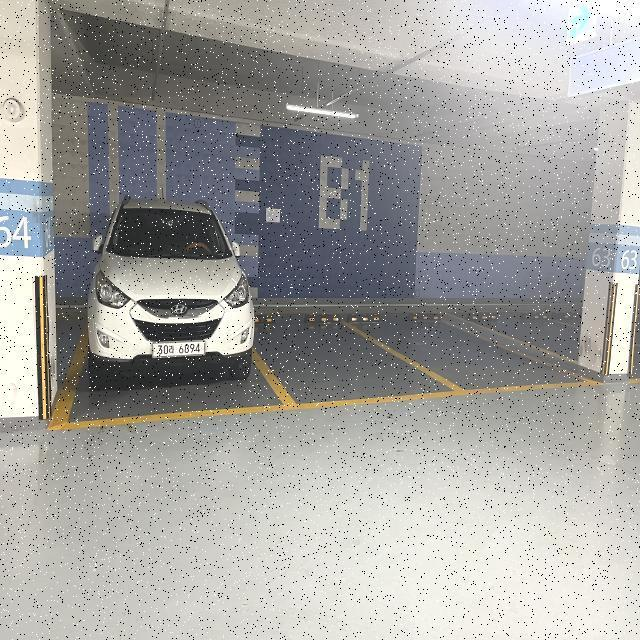Car: (61, 180, 281, 422)
Vacant: (264, 314, 404, 418), (398, 302, 508, 406)
